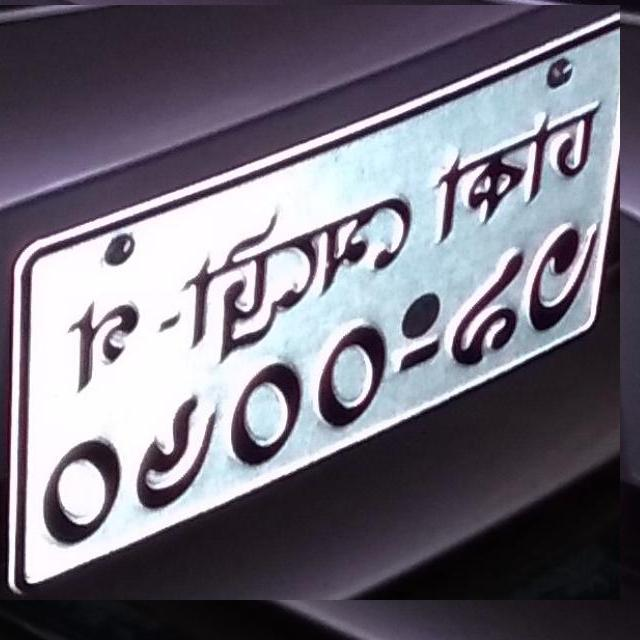numberplate: (0, 5, 620, 600)
